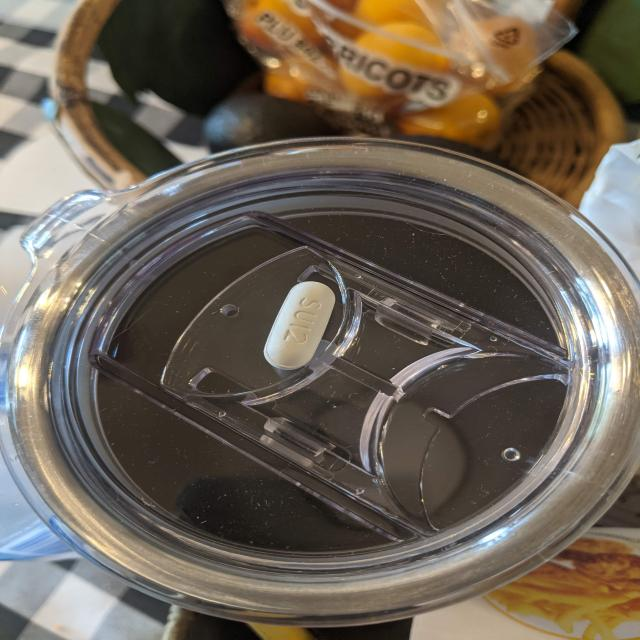non-organic waste: (262, 280, 336, 371)
